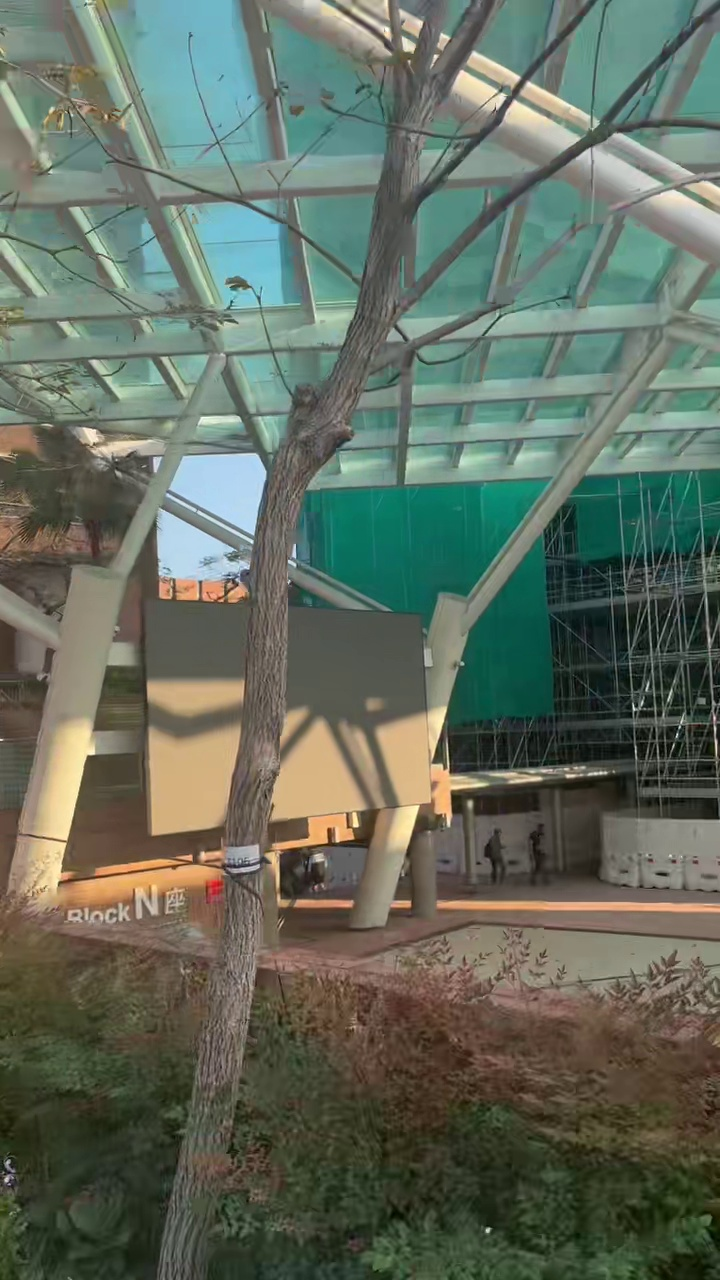Tabebuia chrysantha: (156, 0, 717, 1279)
